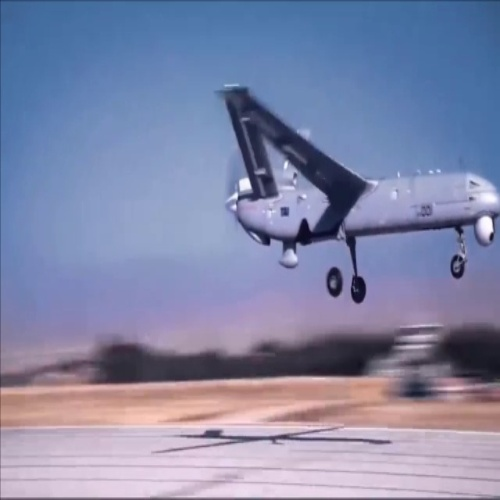uav809: (213, 79, 500, 305)
